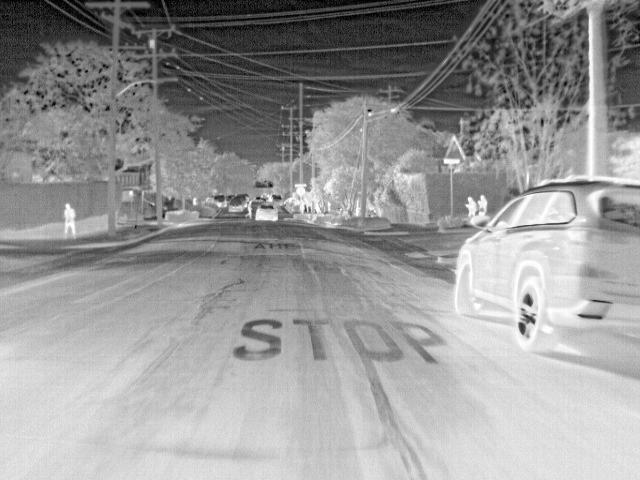car: (452, 173, 639, 358), (255, 201, 278, 221), (237, 193, 252, 207), (269, 194, 283, 207), (228, 197, 241, 211), (214, 192, 226, 207)
person: (62, 201, 77, 238), (477, 192, 489, 218), (464, 193, 476, 219)
